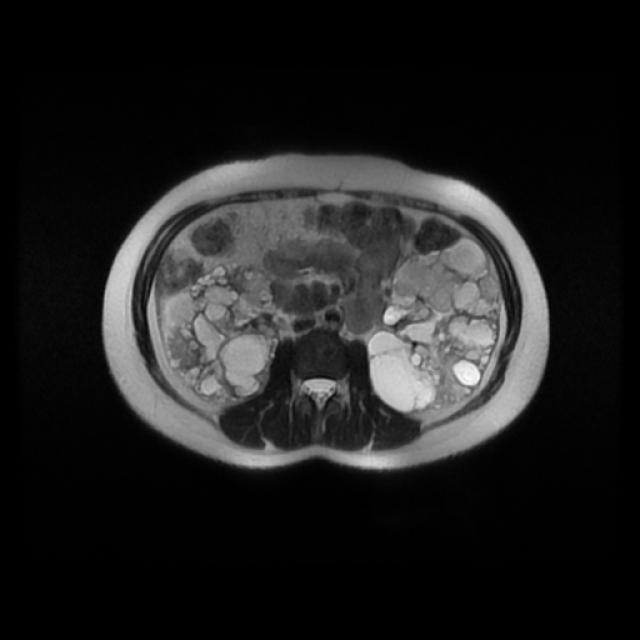sag: (165, 261, 279, 407)
sol: (368, 236, 498, 412)
